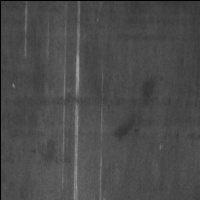scratches: (69, 4, 86, 200)
